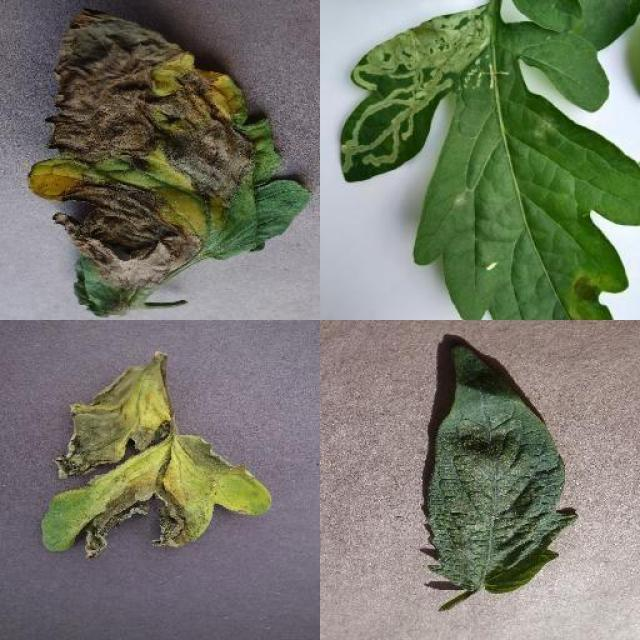Late Blight: (26, 8, 309, 320), (39, 355, 271, 564)
